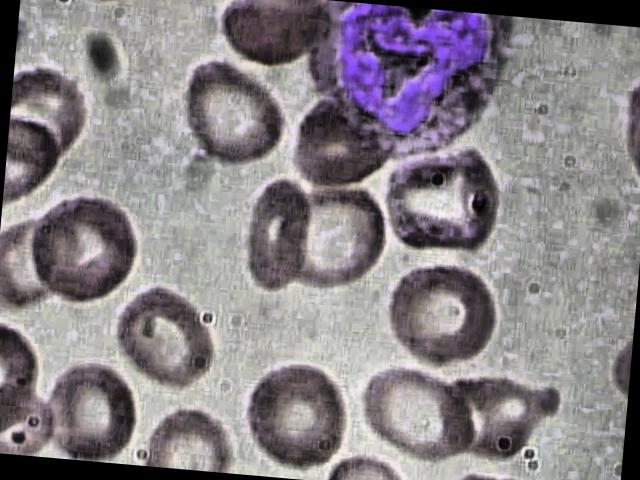RBC: (372, 136, 506, 261), (380, 253, 504, 375), (176, 50, 300, 172), (108, 270, 232, 392), (21, 186, 145, 308), (350, 356, 486, 466), (264, 176, 388, 296), (434, 360, 564, 467), (237, 358, 353, 475), (37, 354, 146, 464), (238, 172, 322, 294), (214, 0, 336, 73)
WBC: (298, 0, 528, 175)
